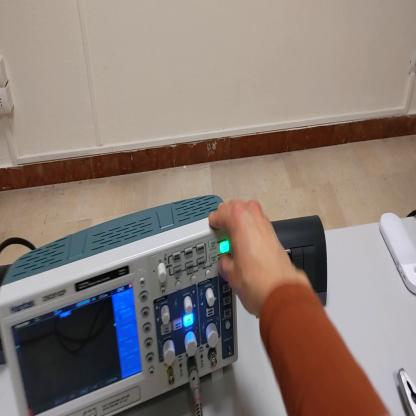hand: (208, 200, 293, 318)
oscilloscope: (2, 195, 240, 416)
pliers: (400, 371, 416, 415)
